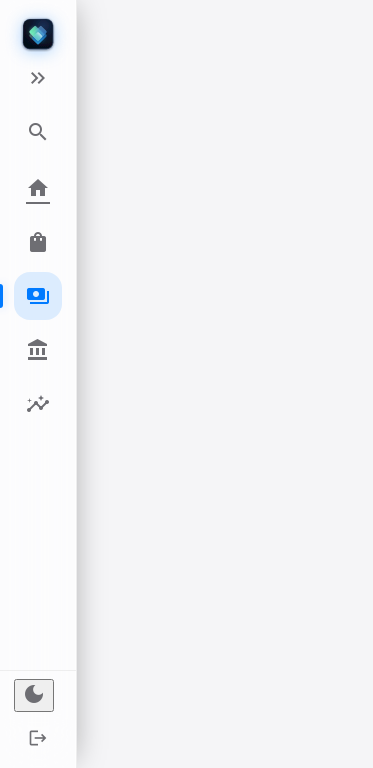
Test: MenuComponent › modo compacto › volver a pulsar el mismo grupo cierra el menú emergente
What coordinates should you click on to do the following:
click the 2nd button with class "rail-grupo"
I would click on:
 (38, 242)
Its box is [14,218,62,266].
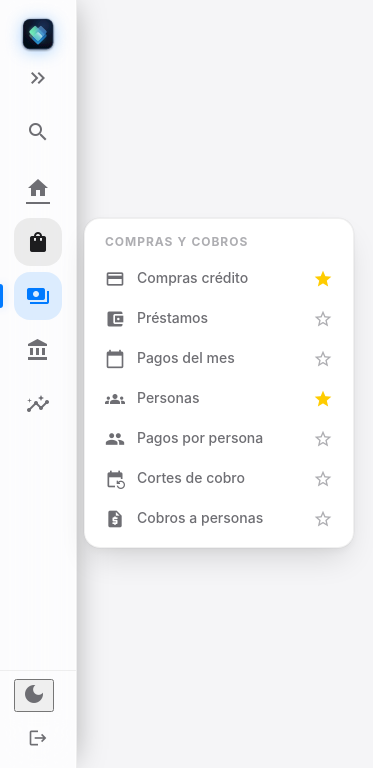
What coordinates should you click on to do the following:
click the 2nd button with class "rail-grupo"
I would click on:
 (38, 242)
Its box is [14,218,62,266].
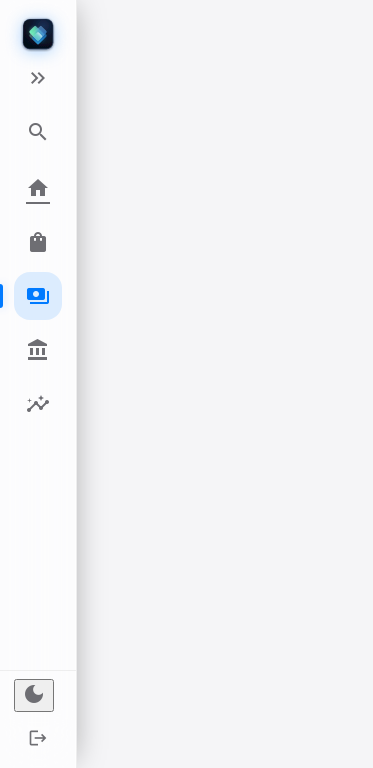
Result: the element with class "flyout" is gone
